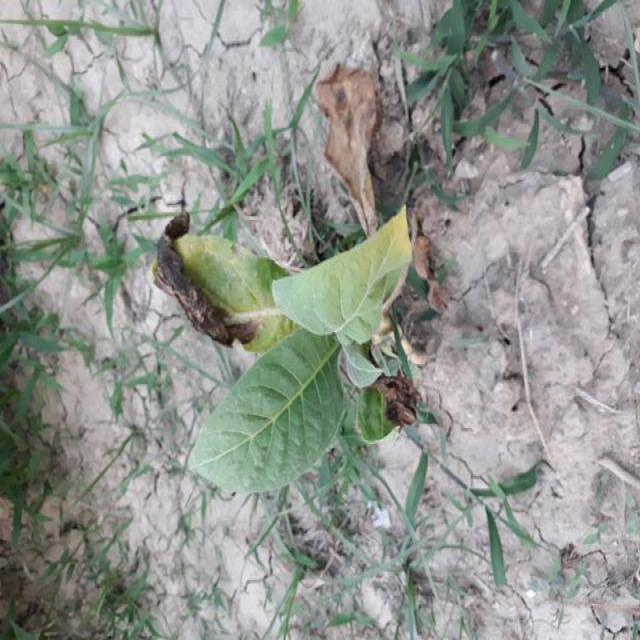crop: (163, 213, 414, 497)
